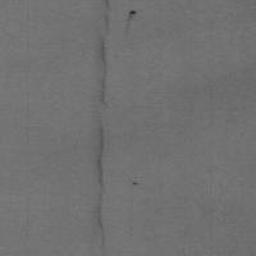Inclusion: (95, 0, 114, 256), (124, 9, 138, 32), (131, 180, 140, 188)
